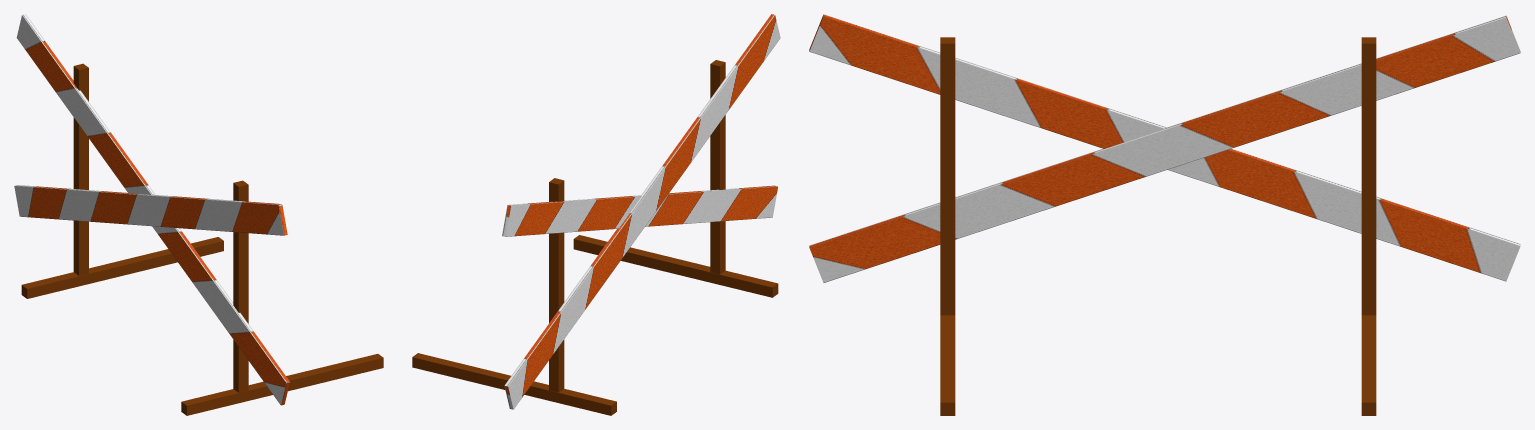
File: RoadBarrier_2.fbx
3 views of the same model, side by side, from view 1: azimuth 30°, elevation 25°; view 2: azimuth 150°, elevation 25°; view 3: azimuth 270°, elevation 25° (orthographic). The views are drawn at different scales.
Visible parts, largest first — view 1: Road_Barrier2; view 2: Road_Barrier2; view 3: Road_Barrier2.
Boxes of the visible parts, x1,y1,x2,y2 form: Road_Barrier2: (14, 14, 383, 415); Road_Barrier2: (412, 14, 780, 415); Road_Barrier2: (809, 14, 1520, 415).
Bounding box in the file's own units: 3.8 × 4.27 × 9.01.
1 material, 1 textured.
